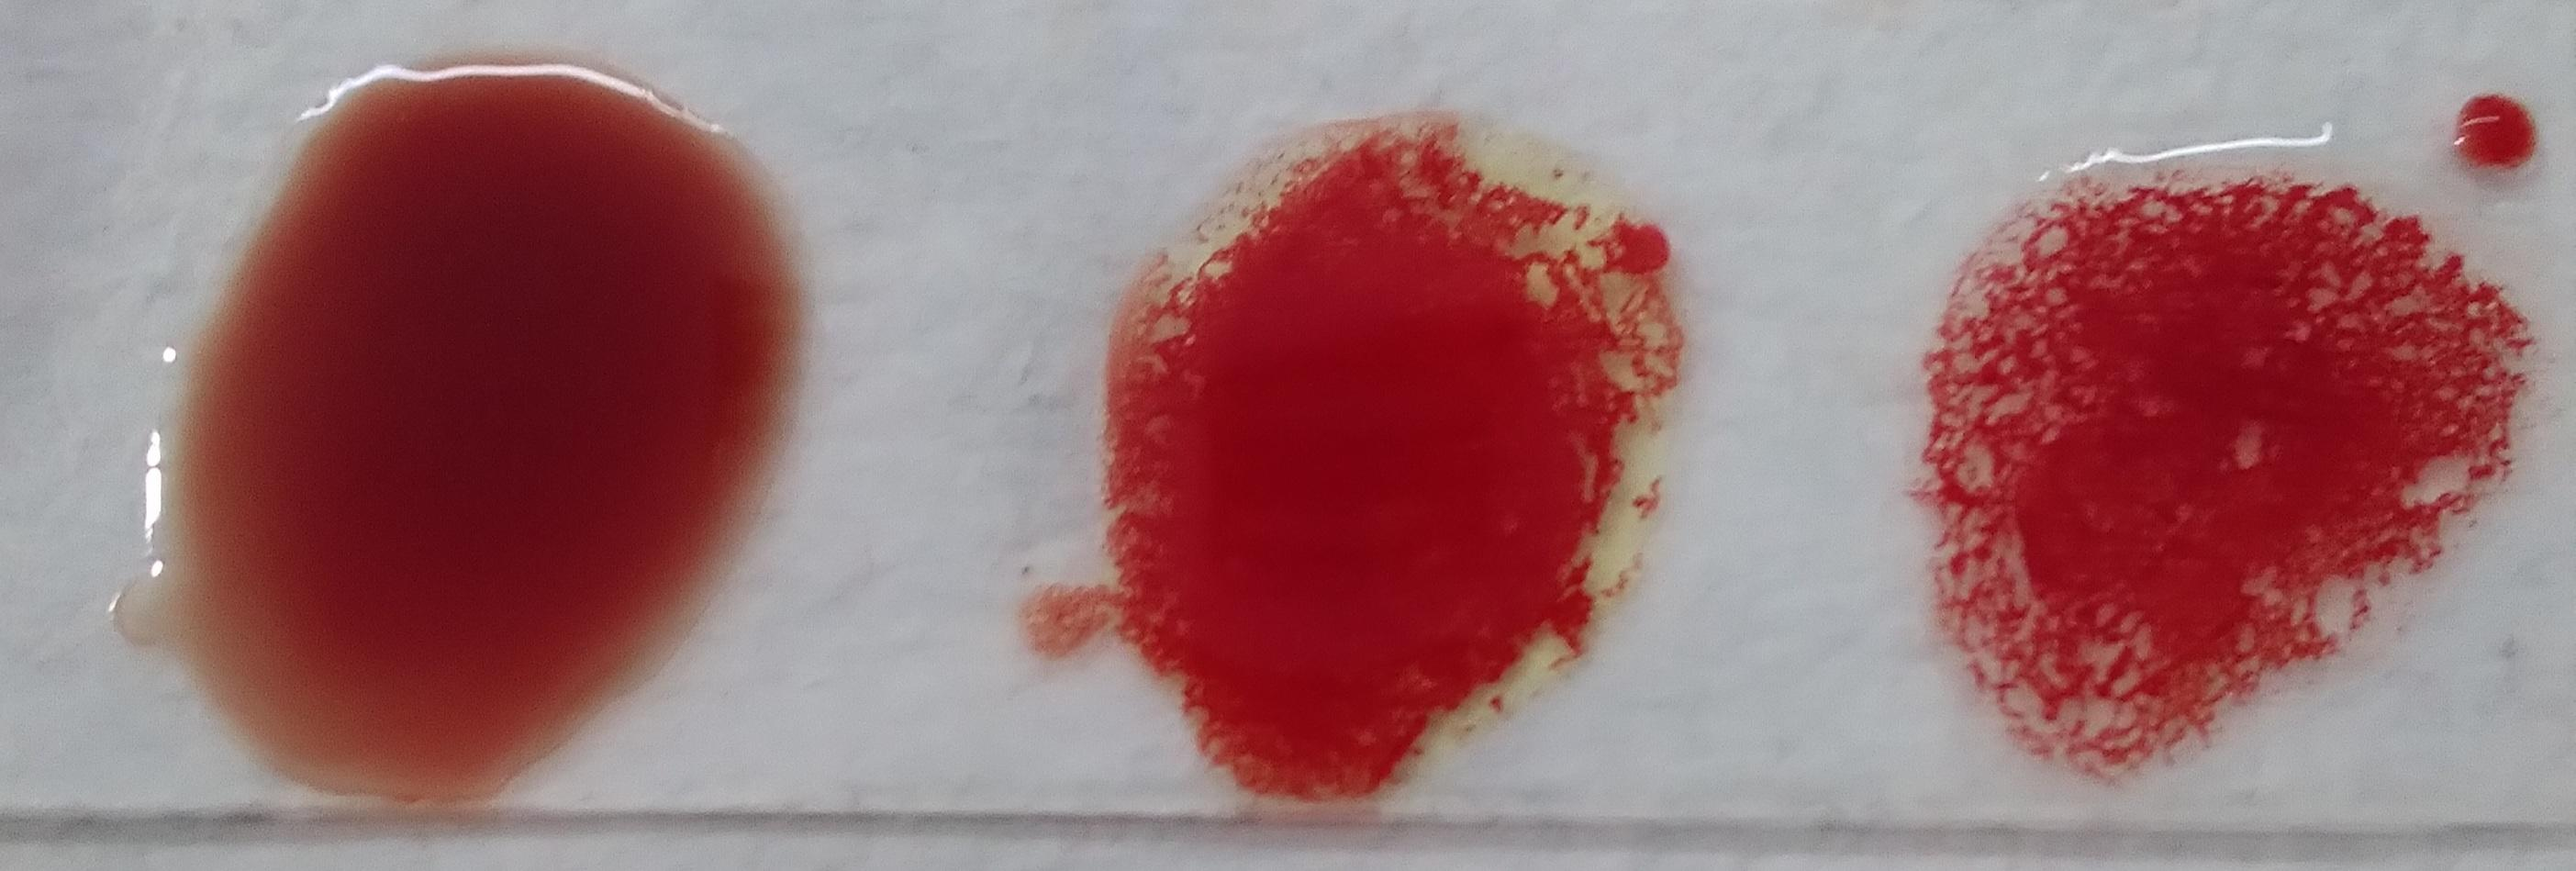B: (925, 59, 1480, 792)
D: (80, 77, 665, 763)
